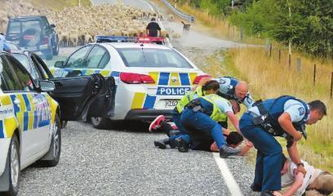fall: (269, 151, 333, 195)
